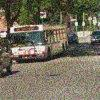buses: (9, 24, 69, 61)
cars: (0, 42, 11, 75)
